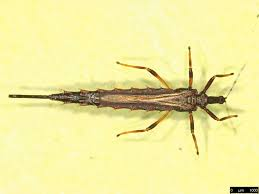Phlaeothripidae: (7, 45, 249, 155)
